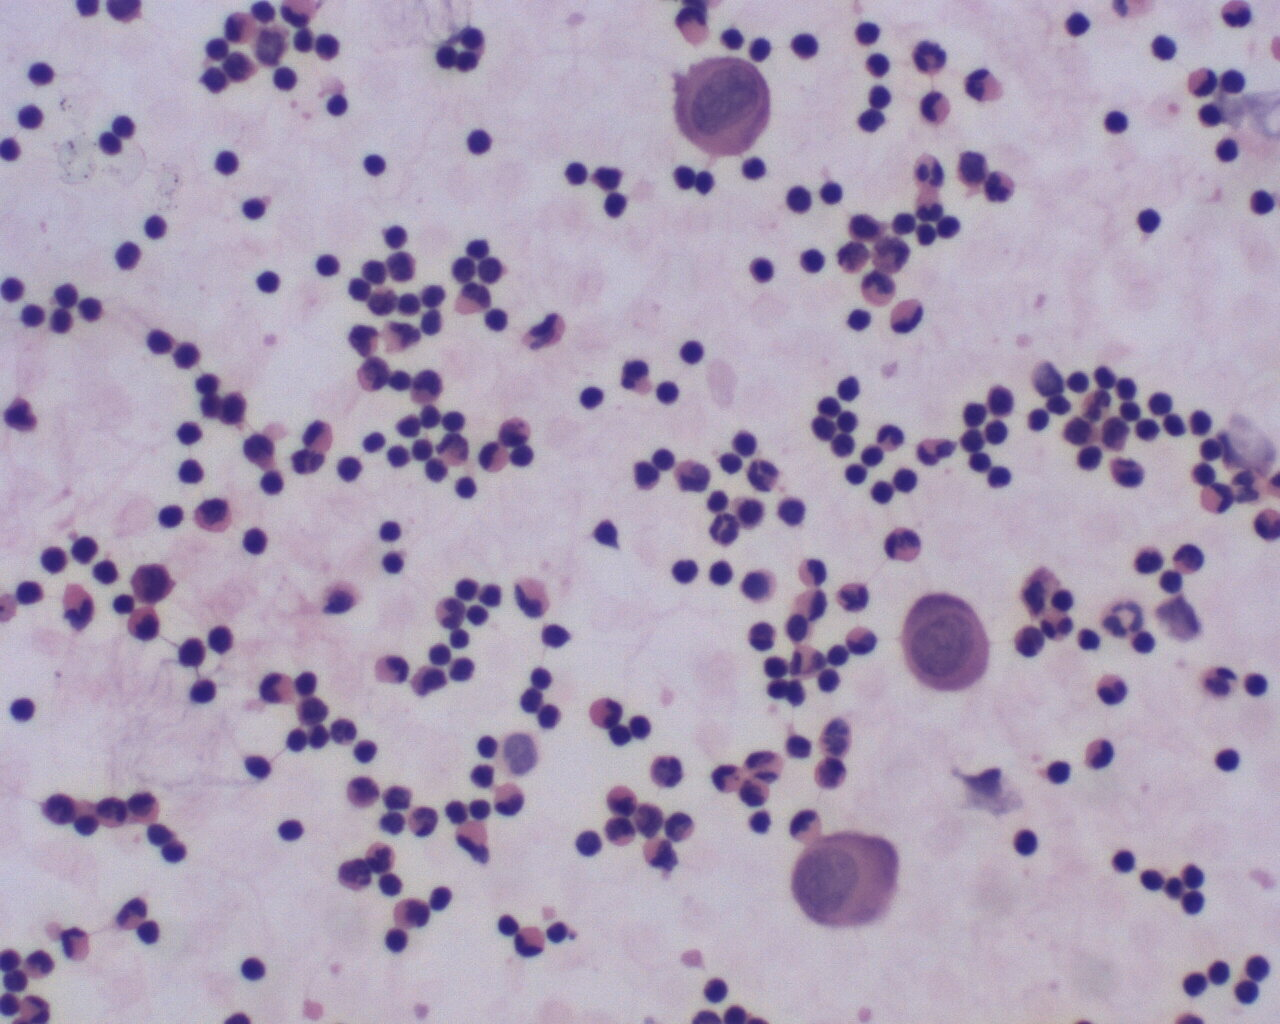ab: (789, 830, 905, 930), (674, 56, 778, 164), (901, 591, 997, 698)
lymph: (1004, 822, 1049, 863), (1099, 103, 1143, 143), (271, 811, 311, 852), (3, 689, 43, 729), (568, 823, 608, 863), (111, 238, 149, 278), (1128, 200, 1165, 241), (369, 511, 408, 550), (1210, 739, 1247, 778), (234, 952, 274, 987), (463, 123, 498, 163), (22, 57, 59, 95), (251, 267, 290, 302), (152, 499, 189, 535), (679, 333, 715, 370), (239, 523, 273, 562), (573, 385, 611, 414), (357, 150, 393, 181), (699, 971, 730, 1004), (214, 147, 245, 180)
neutro: (877, 519, 928, 569), (978, 161, 1025, 208), (1089, 665, 1135, 711), (746, 453, 787, 496), (911, 38, 953, 78), (1195, 479, 1238, 518), (859, 267, 901, 307), (700, 508, 743, 546), (588, 694, 627, 734), (113, 894, 152, 934), (1040, 606, 1078, 644)
